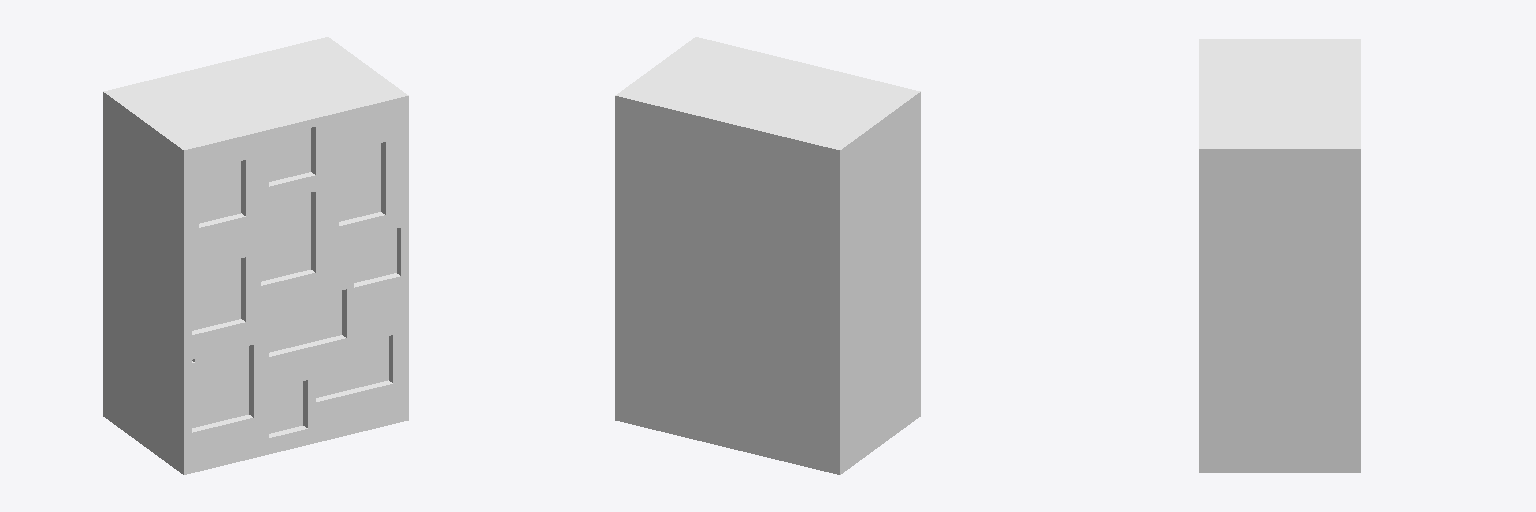
Rendered from bgedi.obj.
3 renders of one model, left to right at view 1: azimuth 30°, elevation 25°; view 2: azimuth 150°, elevation 25°; view 3: azimuth 270°, elevation 25°, orthographic.
Parts seen in each view (by area): view 1: object 1; view 2: object 1; view 3: object 1.
Boxes of the visible parts, x1=… form: object 1: x1=103, y1=37, x2=408, y2=474; object 1: x1=615, y1=37, x2=920, y2=474; object 1: x1=1199, y1=39, x2=1360, y2=472.
Size of the model in its own units: 2.9 by 4 by 1.8.